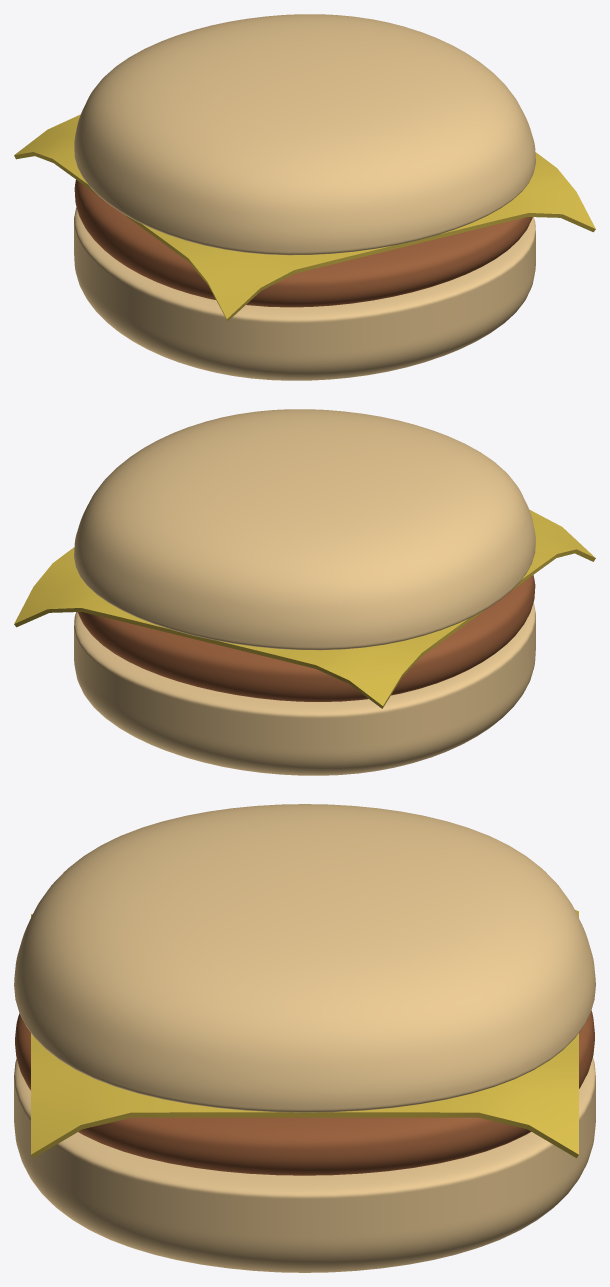
The model's file is hamburger.glb.
3 views of the same model, one above another, from view 1: azimuth 30°, elevation 25°; view 2: azimuth 150°, elevation 25°; view 3: azimuth 270°, elevation 25° (orthographic). The views are drawn at different scales.
Visible parts, largest first — view 1: Cube.004, Cube, Cube.002, Plane; view 2: Cube.004, Cube, Cube.002, Plane; view 3: Cube.004, Cube, Cube.002, Plane.
Boxes of the visible parts, <box> form: Cube.004: <box>74,14,535,255</box>; Cube: <box>74,207,535,380</box>; Cube.002: <box>74,180,532,307</box>; Plane: <box>14,114,595,321</box>; Cube.004: <box>74,409,535,650</box>; Cube: <box>74,603,535,775</box>; Cube.002: <box>77,575,535,701</box>; Plane: <box>14,509,595,708</box>; Cube.004: <box>14,804,595,1112</box>; Cube: <box>14,1058,595,1272</box>; Cube.002: <box>15,1010,594,1175</box>; Plane: <box>31,910,578,1158</box>.
Bounding box in the file's own units: 7.73 × 4.64 × 7.73.
